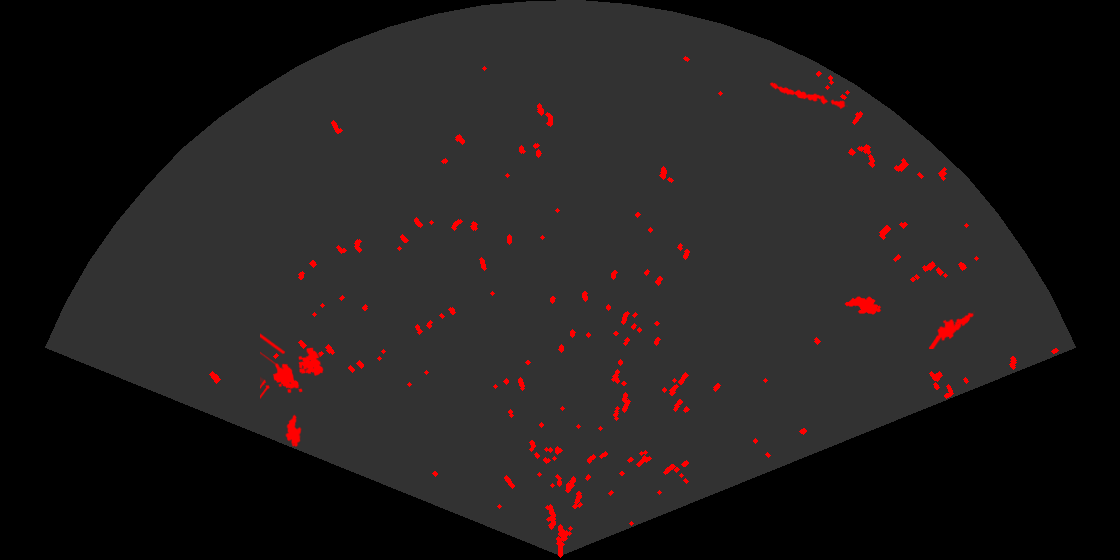AUV: (843, 295, 883, 316), (284, 413, 303, 449)
cage: (260, 332, 325, 401)
chain: (768, 81, 848, 111)
frogman: (929, 309, 975, 349)
